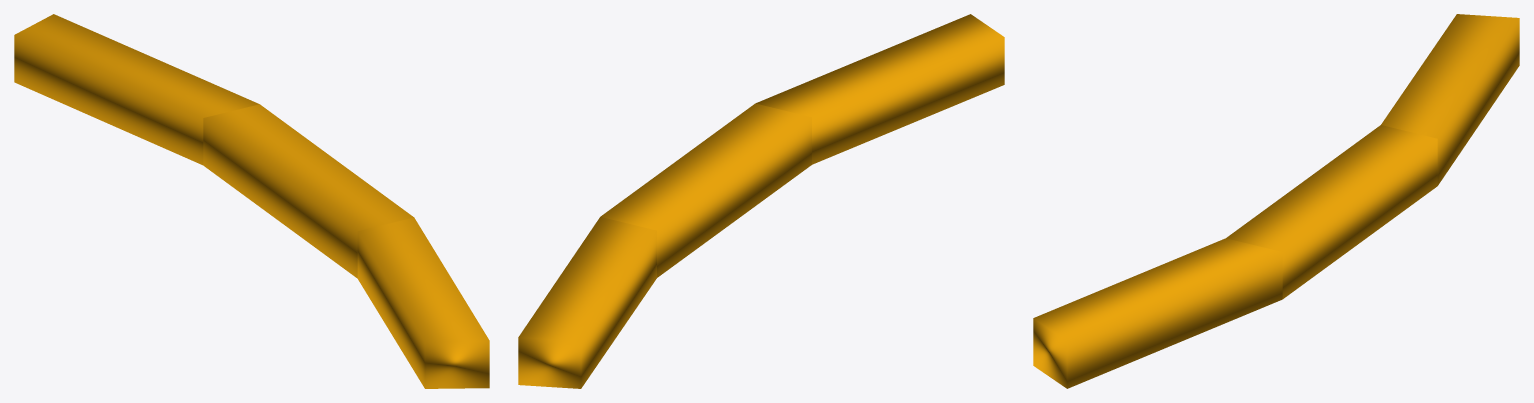
The model's file is Rail_04.fbx.
3 renders of one model, left to right at view 1: azimuth 30°, elevation 25°; view 2: azimuth 150°, elevation 25°; view 3: azimuth 330°, elevation 25°, orthographic.
Parts seen in each view (by area): view 1: Rail_04; view 2: Rail_04; view 3: Rail_04.
Part boxes in pixels (box(x1,y1,x2,y2)): Rail_04: box(14, 14, 489, 388); Rail_04: box(518, 14, 1004, 388); Rail_04: box(1033, 14, 1519, 388).
Bounding box in the file's own units: 28.09 × 10.66 × 181.
